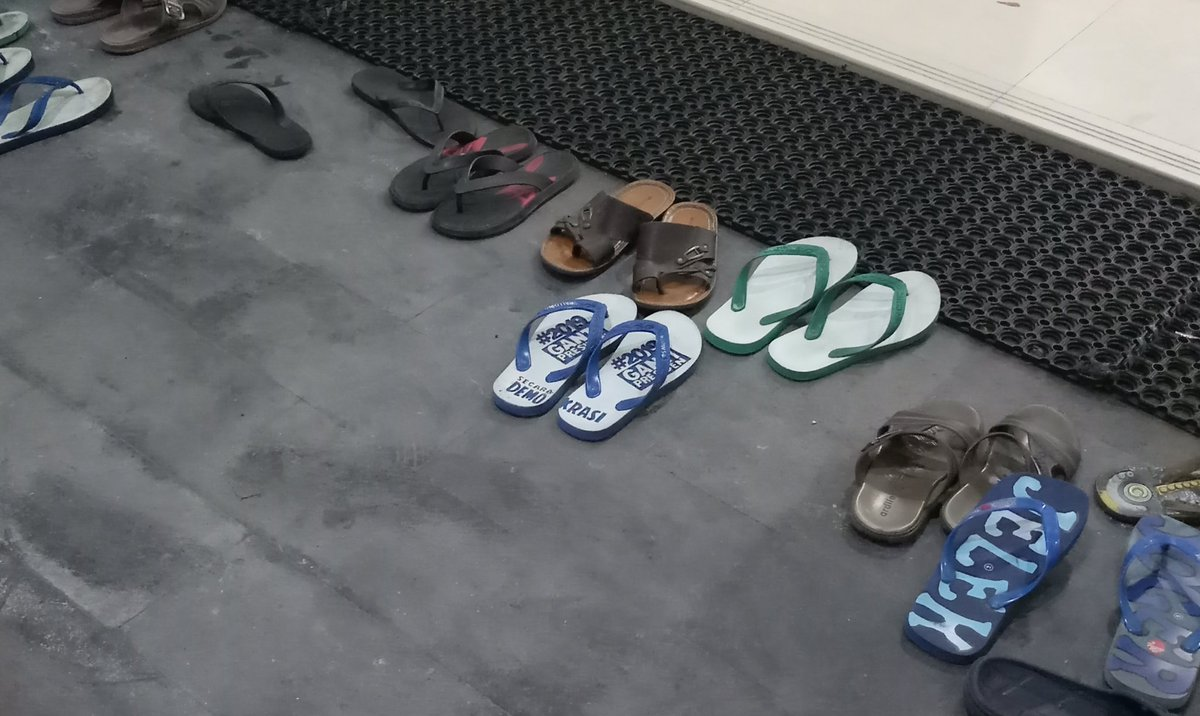sandal: (719, 207, 938, 392), (493, 271, 709, 455), (546, 137, 729, 322), (380, 93, 580, 248), (165, 63, 346, 182)
